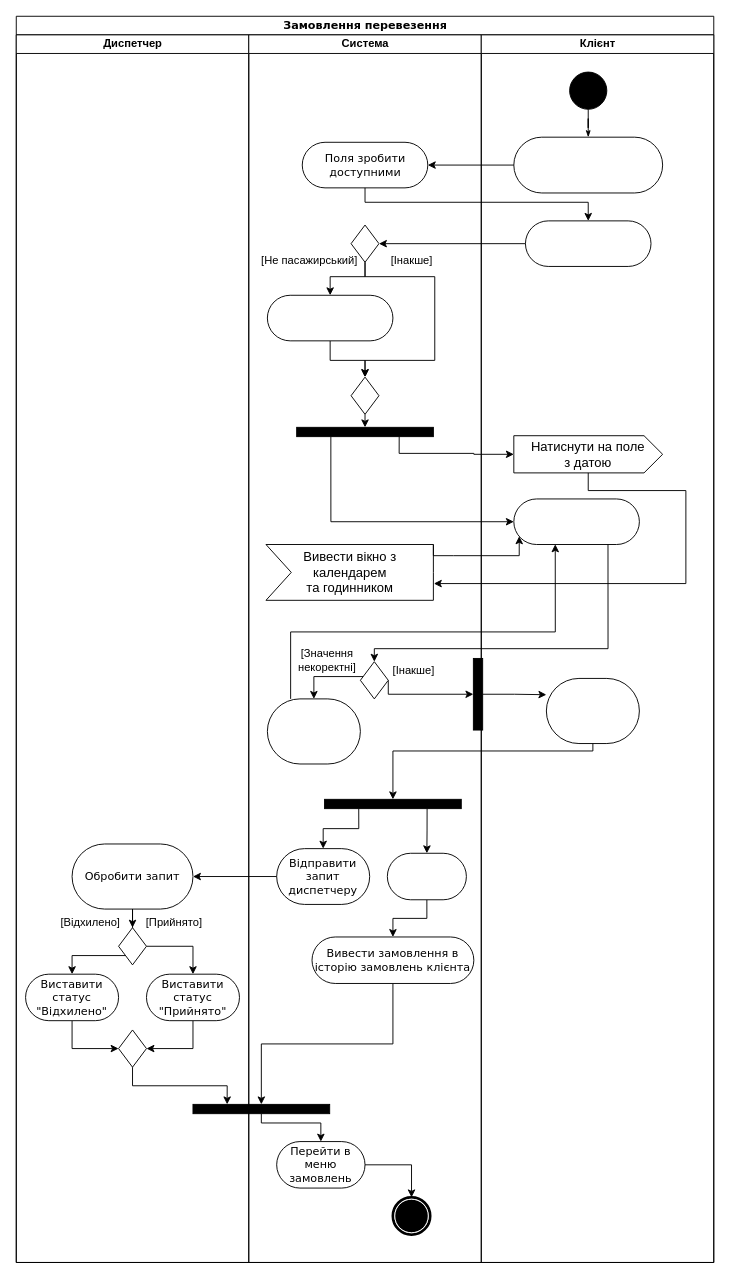
The diagram is 730 pixels wide and 1279 high, and some of its shapes have lost their labels. Here are the shapes that lost their labels. From the top down, the centre of each, then its label:
point 588,164: Перейти в меню "Замовлення перевезень"
point 588,243: Обрати тип замовлення
point 329,317: Додати поля для об'єму та ваги
point 576,521: Ввести значення
point 313,731: Вивести повідомлення про помилку
point 592,711: Підтвердити замовлення
point 426,876: Записати замовлення в БД
